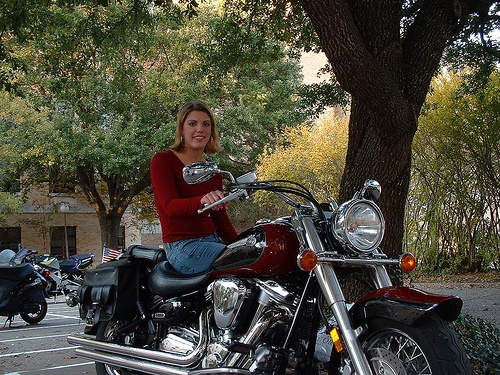head: (178, 101, 216, 152)
person: (148, 95, 237, 289)
